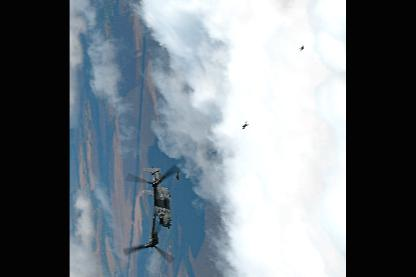Tornado: (123, 164, 180, 264)
